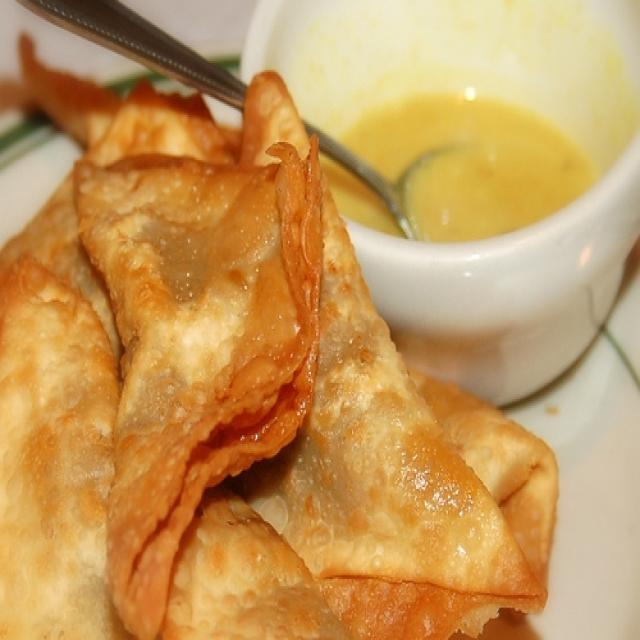炸货点心: (12, 15, 599, 630)
